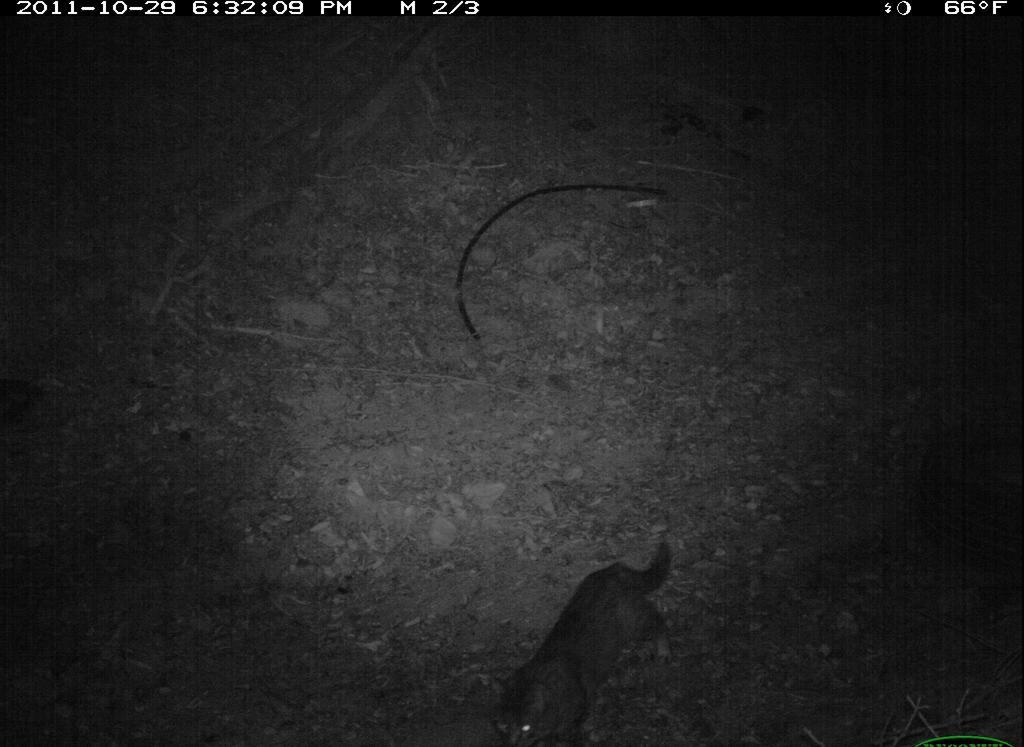cat: (488, 524, 694, 740)
